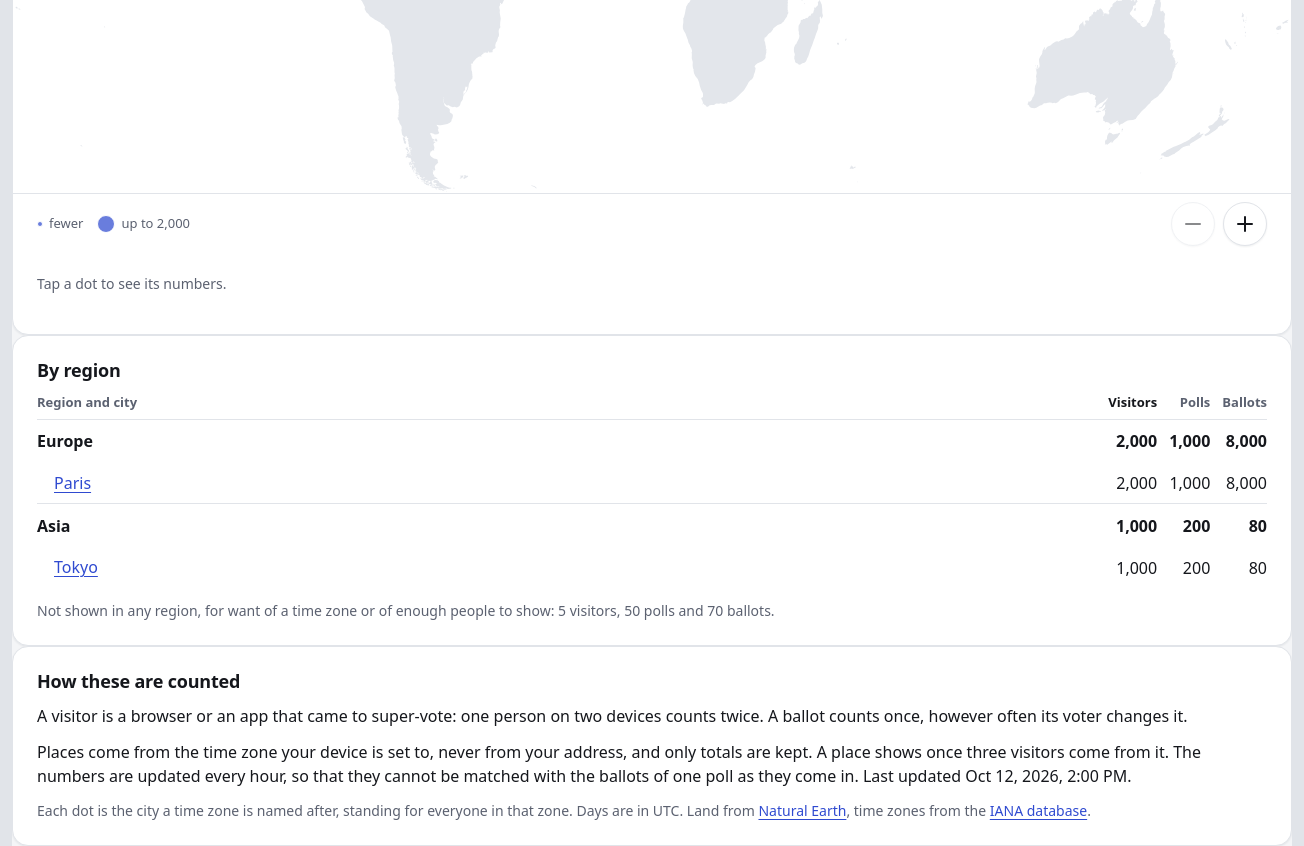
the statistics page › lists the regions, each with its cities, and what is shown nowhere
(page scrolled)
What coordinates should you click on to do the following:
click the button "Tokyo"
I would click on:
 (68, 568)
Its box is [37,548,99,588].
(page scrolled)
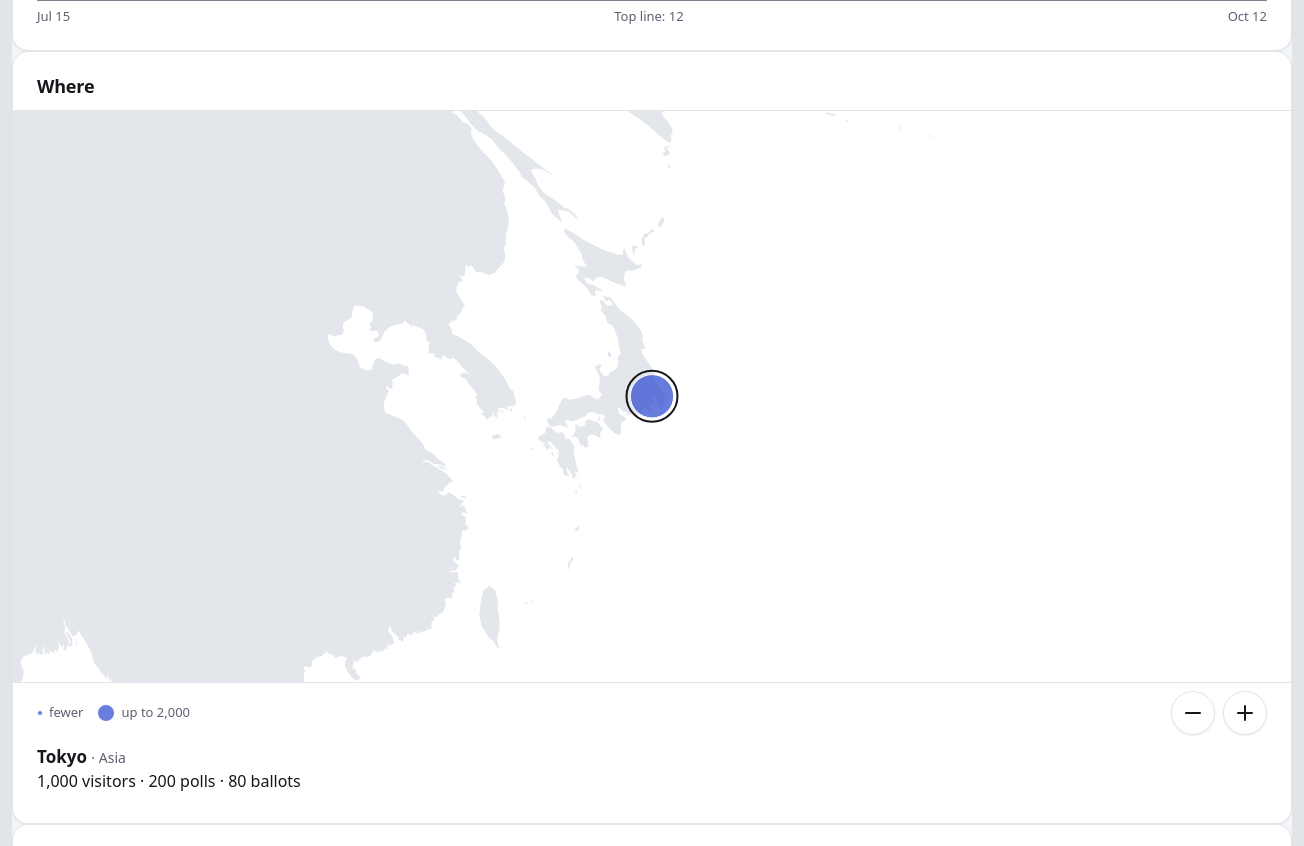
Expected: the element with class "world-map-chosen" is shown, [626,371,678,422]
Result: the heading "Tokyo · Asia" is shown at [37,744,126,768]
